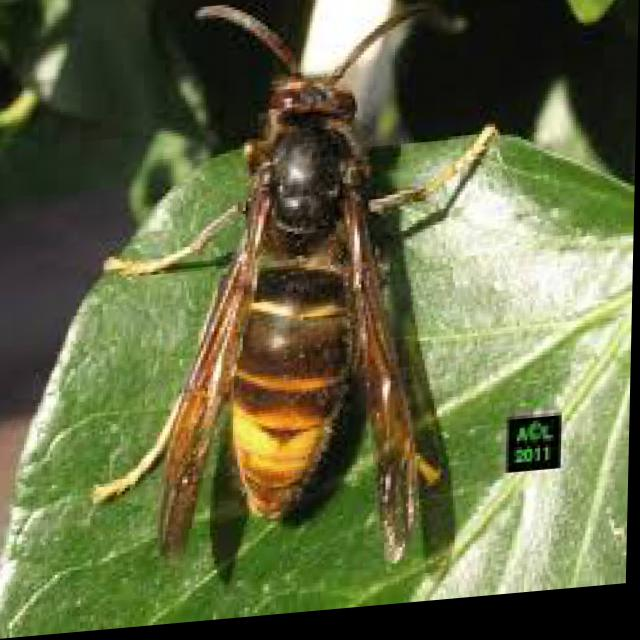Vespa Velutina: (76, 0, 507, 601)
